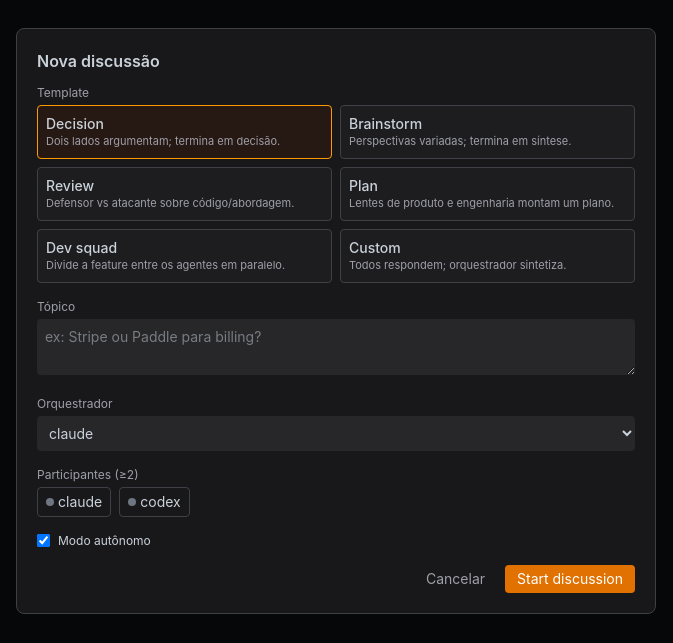
Scenario: exige >=2 participantes antes de iniciar
The image size is (673, 643).
What coordinates should you click on to do the following:
click the button "Start discussion"
I would click on:
 (570, 578)
Its box is [505,564,635,592].
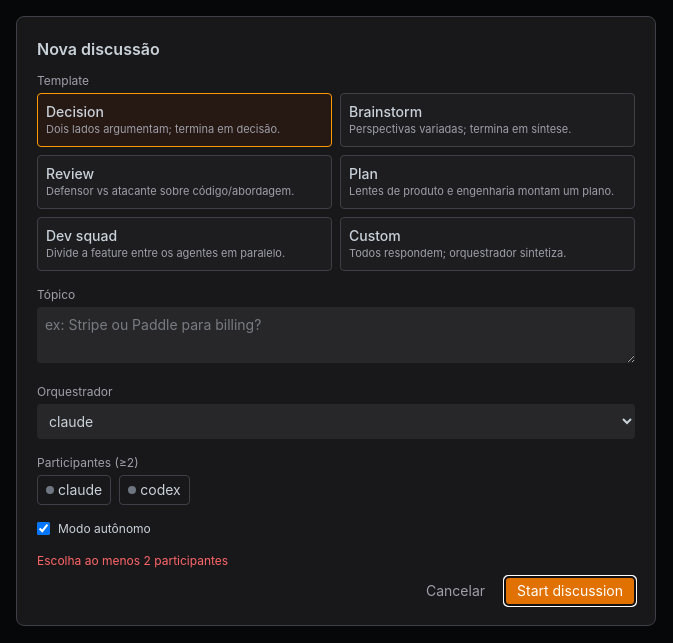
Now the text "Escolha ao menos 2 participantes" is shown, box [37,552,228,568]
